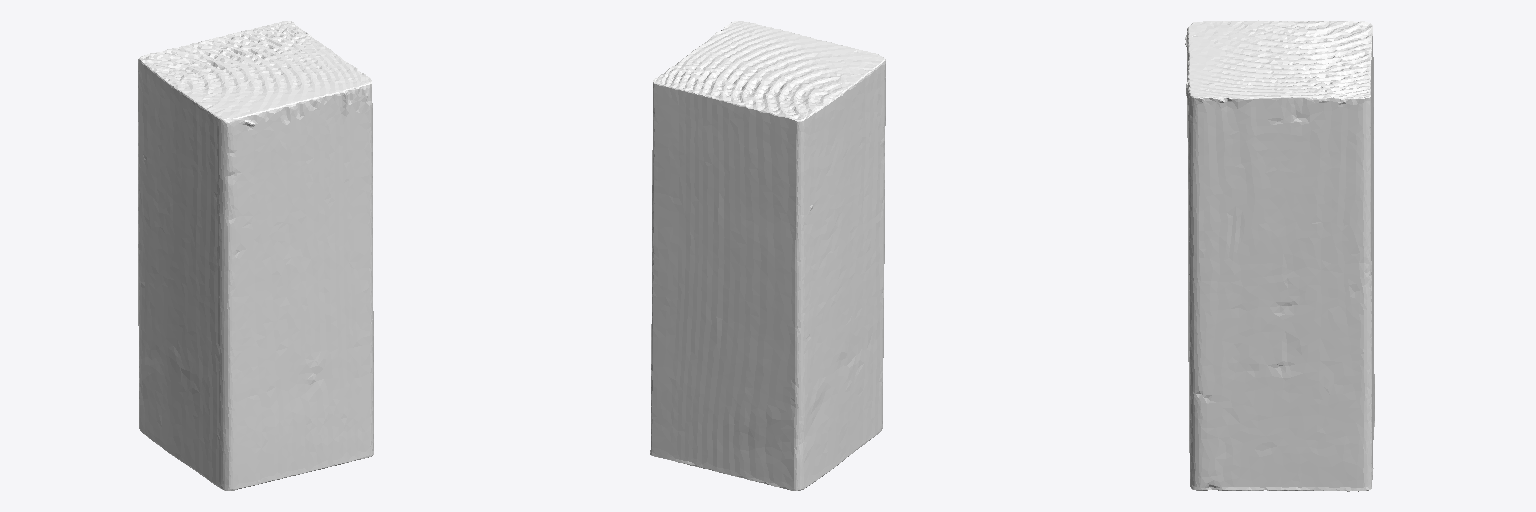
robot.urdf — b_toy_airplane:
<robot name="b_toy_airplane">
	<link name="base_link">
		<visual>
			<origin xyz="0.04948007536634335 -0.011121747774205814 -0.025398688412704613" rpy="0.0 0.0 0.0" />
			<geometry>
				<mesh filename="072-b_toy_airplane/google_16k/textured.obj" scale="1 1 1" />
			</geometry>
			<material name="texture">
				<color rgba="1.0 1.0 1.0 1.0" />
			</material>
		</visual>
		<collision>
			<origin xyz="0.04948007536634335 -0.011121747774205814 -0.025398688412704613" rpy="0.0 0.0 0.0" />
			<geometry>
				<mesh filename="072-b_toy_airplane/google_16k/textured_vhacd.obj" scale="1 1 1" />
			</geometry>
		</collision>
		<inertial>
			<mass value="0.114" />
			<inertia ixx="1e-3" ixy="0.0" ixz="0.0" iyy="1e-3" iyz="0.0" izz="1e-3" />
		</inertial>
	</link>
</robot>

--- What the picture shows (computed from the rendered views, not written in the file) ---
3 views of the same robot in one strip: view 1: azimuth 30°, elevation 25°; view 2: azimuth 150°, elevation 25°; view 3: azimuth 270°, elevation 25° (orthographic).
Model b_toy_airplane with 1 links and 0 joints (none), rooted at base_link, posed all joints at 0.
Links seen in each view (by area): view 1: base_link; view 2: base_link; view 3: base_link.
Boxes of the visible links, box(x1,y1,x2,y2) form: base_link: box(138, 21, 373, 490); base_link: box(650, 21, 885, 490); base_link: box(1185, 20, 1374, 491).
Size in the robot's own frame: 0.0906 by 0.0899 by 0.206 metres.
Meshes: 1 distinct files referenced, 1 mesh visuals loaded (1 OBJ).